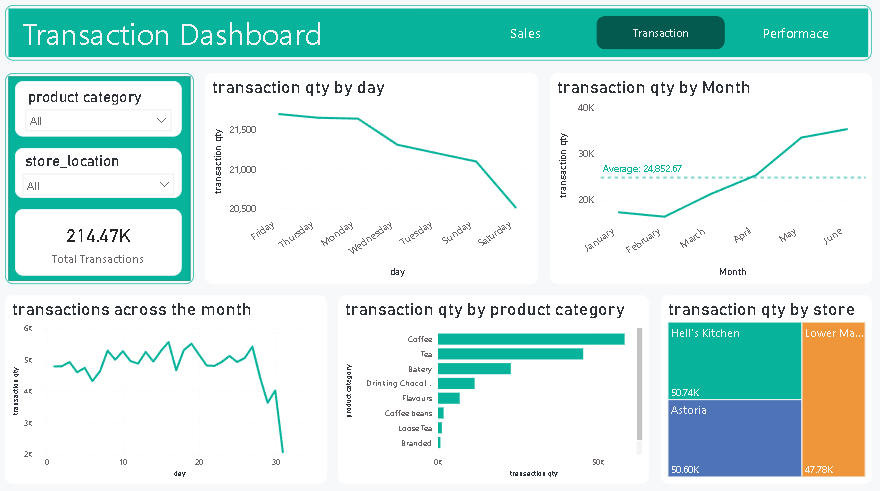

The page's visual inventory and layout, read from the dashboard file:
{"tool":"powerbi","page":{"name":"Transaction_Dashboard","canvas":[1280,720],"ordinal":1},"visuals":[{"type":"shape","box":[16,16,1248,80],"z":0},{"type":"advancedSlicerVisual","fields":{"Values":["tc.store_location"]},"box":[688,16,576,80],"z":1000},{"type":"lineChart","fields":{"Y":["CountNonNull(tc.transaction_qty)"],"Category":["calender.date.Variation.Date Hierarchy.Month"]},"box":[496,112,448,256],"z":2000},{"type":"barChart","fields":{"Y":["CountNonNull(tc.transaction_qty)"],"Category":["tc.product_category"]},"box":[496,384,448,320],"z":3000},{"type":"lineChart","title":"transactions across the month","fields":{"Category":["calender.day"],"Y":["CountNonNull(tc.transaction_qty)"]},"box":[16,384,464,320],"z":4000},{"type":"lineChart","fields":{"Category":["calender.day_name"],"Y":["tc.Count of transaction_qty"]},"box":[16,112,464,256],"z":5000},{"type":"treemap","title":"transaction qty by store ","fields":{"Group":["tc.store_location"],"Values":["tc.Count of transaction_qty"]},"box":[960,272,304,432],"z":6000},{"type":"card","fields":{"Values":["tc.avg_TC"]},"box":[960,112,304,144],"z":7000}]}

Visuals, with their boxes in screenshot pixels (x1, y1, x2, y2), scaled from the page's 1280x720 canvas onto the 880x491 screenshot:
shape: bbox=[11, 11, 869, 65]
advancedSlicerVisual - tc.store_location: bbox=[473, 11, 869, 65]
lineChart - CountNonNull(tc.transaction_qty) x calender.date.Variation.Date Hierarchy.Month: bbox=[341, 76, 649, 251]
barChart - CountNonNull(tc.transaction_qty) x tc.product_category: bbox=[341, 262, 649, 480]
"transactions across the month" lineChart: bbox=[11, 262, 330, 480]
lineChart - calender.day_name x tc.Count of transaction_qty: bbox=[11, 76, 330, 251]
"transaction qty by store " treemap: bbox=[660, 185, 869, 480]
card - tc.avg_TC: bbox=[660, 76, 869, 175]
